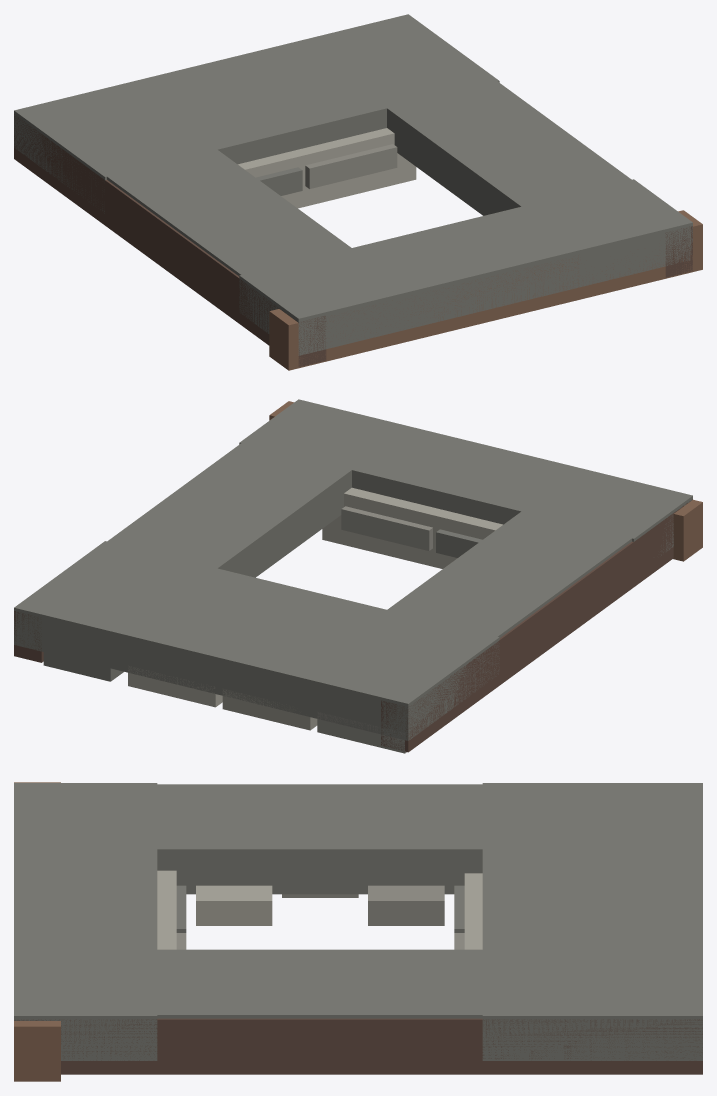
Rendered from tier04_rubble_stone_wall_with_window.glb.
3 renders of one model, top to bottom at view 1: azimuth 30°, elevation 25°; view 2: azimuth 150°, elevation 25°; view 3: azimuth 270°, elevation 25°, orthographic. The views are drawn at different scales.
Visible parts, largest first — view 1: tier04_rubble_stone_wall_with_window_001, tier04_rubble_stone_wall_with_window_002, tier04_rubble_stone_wall_with_window_003, tier04_rubble_stone_wall_with_window_000, tier04_rubble_stone_wall_with_window_030, tier04_rubble_stone_wall_with_window_032, tier04_rubble_stone_wall_with_window_033, tier04_rubble_stone_wall_with_window_014, tier04_rubble_stone_wall_with_window_031, tier04_rubble_stone_wall_with_window_013; view 2: tier04_rubble_stone_wall_with_window_002, tier04_rubble_stone_wall_with_window_001, tier04_rubble_stone_wall_with_window_000, tier04_rubble_stone_wall_with_window_003, tier04_rubble_stone_wall_with_window_030, tier04_rubble_stone_wall_with_window_034, tier04_rubble_stone_wall_with_window_024, tier04_rubble_stone_wall_with_window_032, tier04_rubble_stone_wall_with_window_005, tier04_rubble_stone_wall_with_window_004, tier04_rubble_stone_wall_with_window_006, tier04_rubble_stone_wall_with_window_007 (+2 smaller); view 3: tier04_rubble_stone_wall_with_window_000, tier04_rubble_stone_wall_with_window_002, tier04_rubble_stone_wall_with_window_001, tier04_rubble_stone_wall_with_window_003, tier04_rubble_stone_wall_with_window_031, tier04_rubble_stone_wall_with_window_016, tier04_rubble_stone_wall_with_window_020, tier04_rubble_stone_wall_with_window_032, tier04_rubble_stone_wall_with_window_034, tier04_rubble_stone_wall_with_window_033, tier04_rubble_stone_wall_with_window_013, tier04_rubble_stone_wall_with_window_023.
Boxes of the visible parts, <box> form: tier04_rubble_stone_wall_with_window_001: <box>297,14,690,286</box>; tier04_rubble_stone_wall_with_window_002: <box>14,14,499,213</box>; tier04_rubble_stone_wall_with_window_003: <box>239,179,692,355</box>; tier04_rubble_stone_wall_with_window_000: <box>17,83,410,354</box>; tier04_rubble_stone_wall_with_window_030: <box>14,114,326,366</box>; tier04_rubble_stone_wall_with_window_032: <box>269,210,702,370</box>; tier04_rubble_stone_wall_with_window_033: <box>238,128,416,208</box>; tier04_rubble_stone_wall_with_window_014: <box>305,144,397,188</box>; tier04_rubble_stone_wall_with_window_031: <box>665,226,692,277</box>; tier04_rubble_stone_wall_with_window_013: <box>256,167,302,195</box>; tier04_rubble_stone_wall_with_window_002: <box>14,541,499,740</box>; tier04_rubble_stone_wall_with_window_001: <box>16,400,409,671</box>; tier04_rubble_stone_wall_with_window_000: <box>296,468,690,740</box>; tier04_rubble_stone_wall_with_window_003: <box>239,399,692,555</box>; tier04_rubble_stone_wall_with_window_030: <box>381,499,692,752</box>; tier04_rubble_stone_wall_with_window_034: <box>322,487,502,568</box>; tier04_rubble_stone_wall_with_window_024: <box>341,506,432,550</box>; tier04_rubble_stone_wall_with_window_032: <box>269,401,702,561</box>; tier04_rubble_stone_wall_with_window_005: <box>222,689,317,730</box>; tier04_rubble_stone_wall_with_window_004: <box>317,712,406,753</box>; tier04_rubble_stone_wall_with_window_006: <box>128,666,222,707</box>; tier04_rubble_stone_wall_with_window_007: <box>43,645,123,681</box>; tier04_rubble_stone_wall_with_window_000: <box>14,784,702,894</box>; tier04_rubble_stone_wall_with_window_002: <box>482,783,702,1060</box>; tier04_rubble_stone_wall_with_window_001: <box>14,949,702,1018</box>; tier04_rubble_stone_wall_with_window_003: <box>14,783,157,1060</box>; tier04_rubble_stone_wall_with_window_031: <box>14,1018,702,1074</box>; tier04_rubble_stone_wall_with_window_016: <box>368,885,444,925</box>; tier04_rubble_stone_wall_with_window_020: <box>196,885,272,925</box>; tier04_rubble_stone_wall_with_window_032: <box>14,782,60,1081</box>; tier04_rubble_stone_wall_with_window_034: <box>157,870,176,949</box>; tier04_rubble_stone_wall_with_window_033: <box>464,873,482,949</box>; tier04_rubble_stone_wall_with_window_013: <box>454,885,464,932</box>; tier04_rubble_stone_wall_with_window_023: <box>176,885,186,932</box>.
Size of the model in its own units: 2.1 by 0.345 by 2.5.
